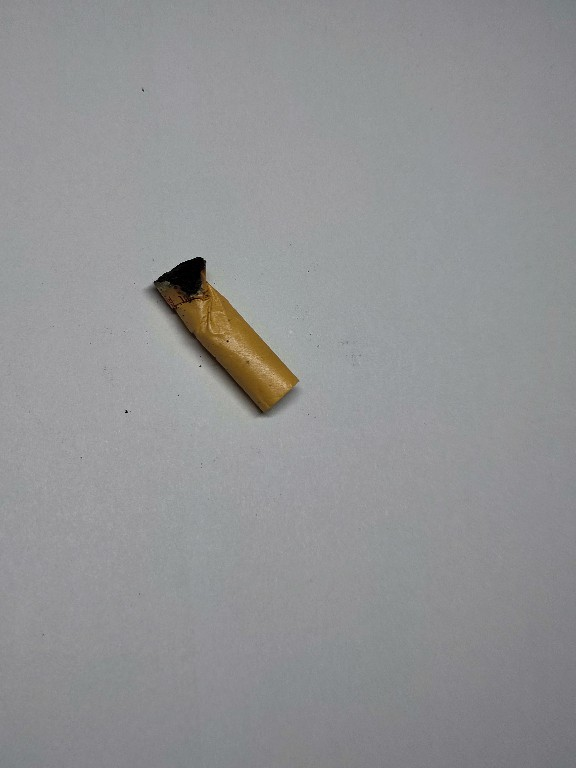cigarette: (150, 254, 302, 418)
